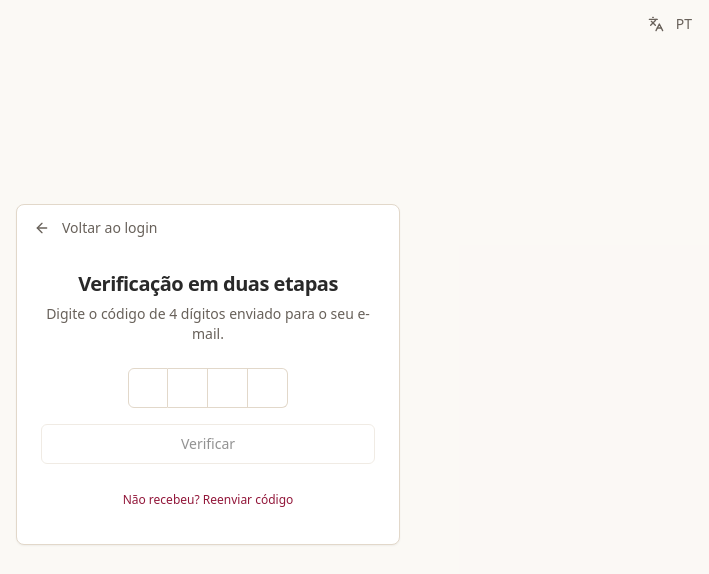
reenvio do código › reenviar pede um novo código e reinicia a espera
Click the button "Não recebeu? Reenviar código" at (208, 500), box [107,480,309,520]
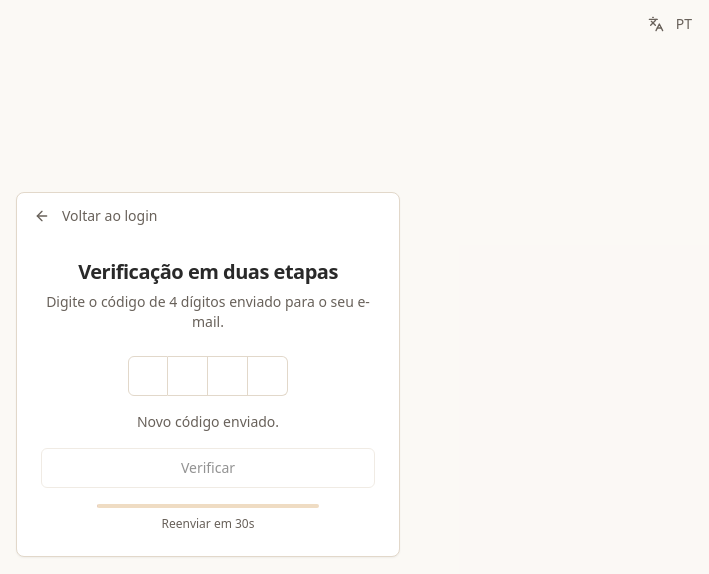
Expected: the progress indicator is shown, [97,504,319,508]
